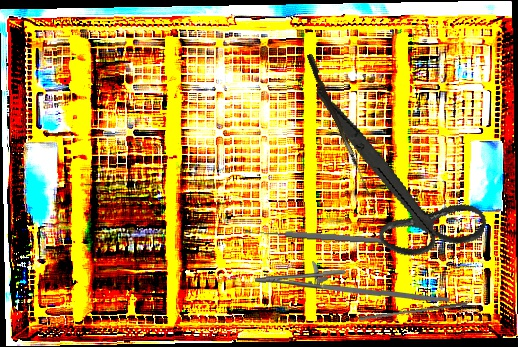Hook Surgical: (303, 53, 378, 198)
Iris Scissors: (279, 87, 510, 275)
Needle Holder: (254, 258, 450, 307)
Pusher: (358, 297, 468, 325)
Surgical Spoon: (244, 227, 384, 245)
